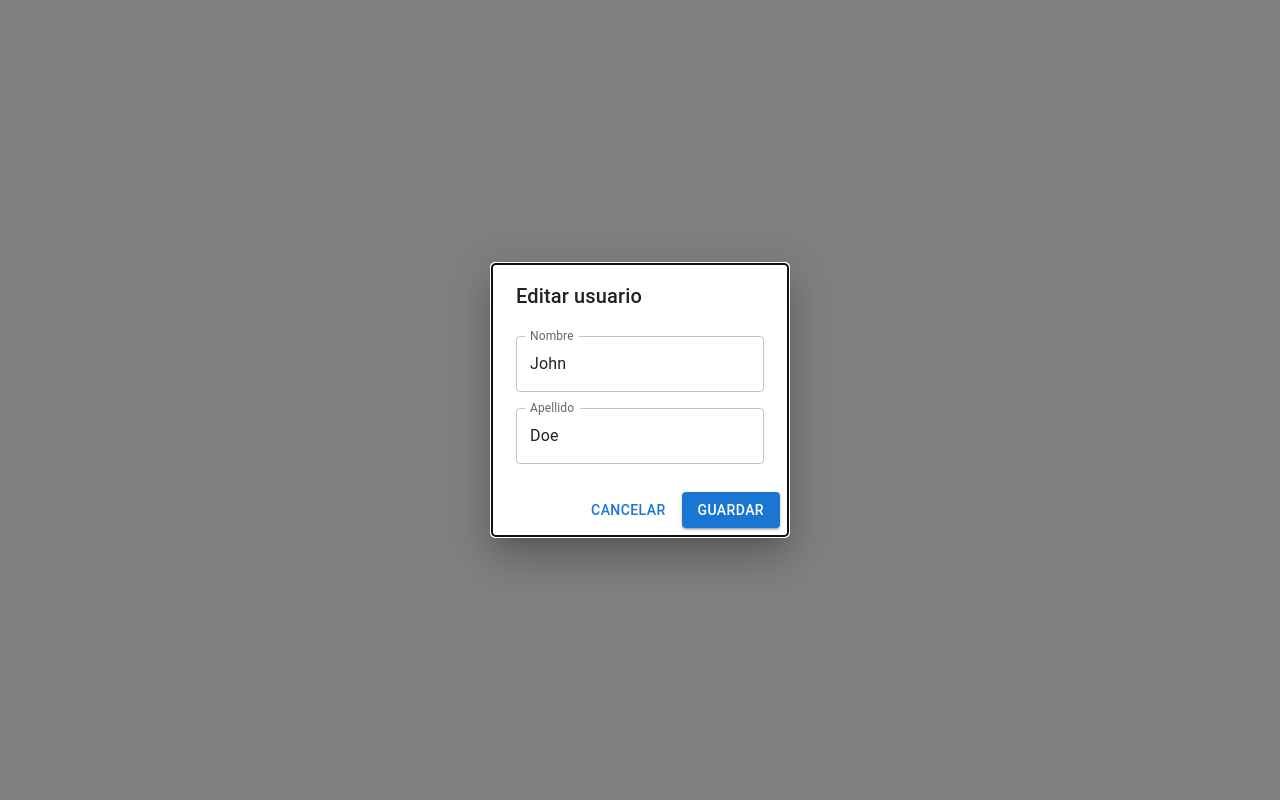
Scenario: UserEditModal › shows an error and keeps the modal open on failure
Click the button "Guardar". click: [731, 510]
box: [682, 492, 780, 528]
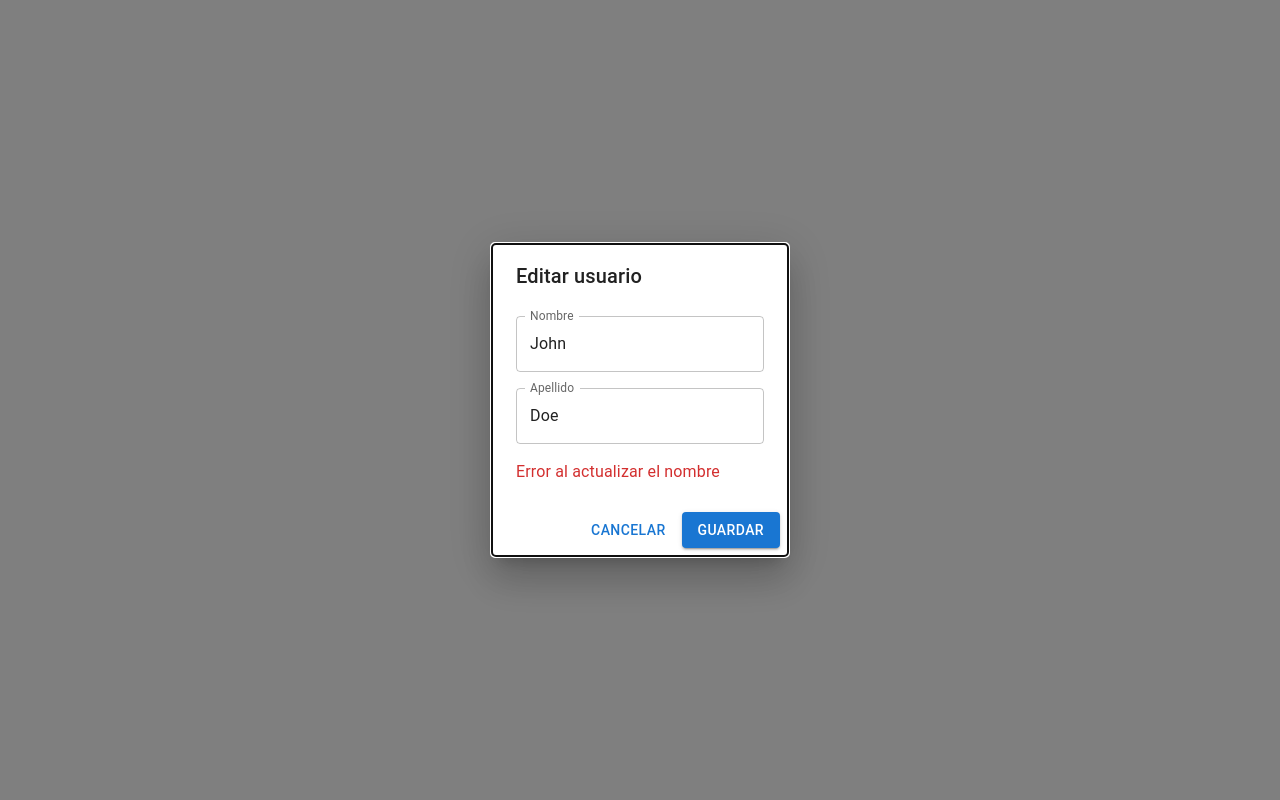
Result: the text "Error al actualizar el nombre" is shown at [516, 462, 720, 481]
